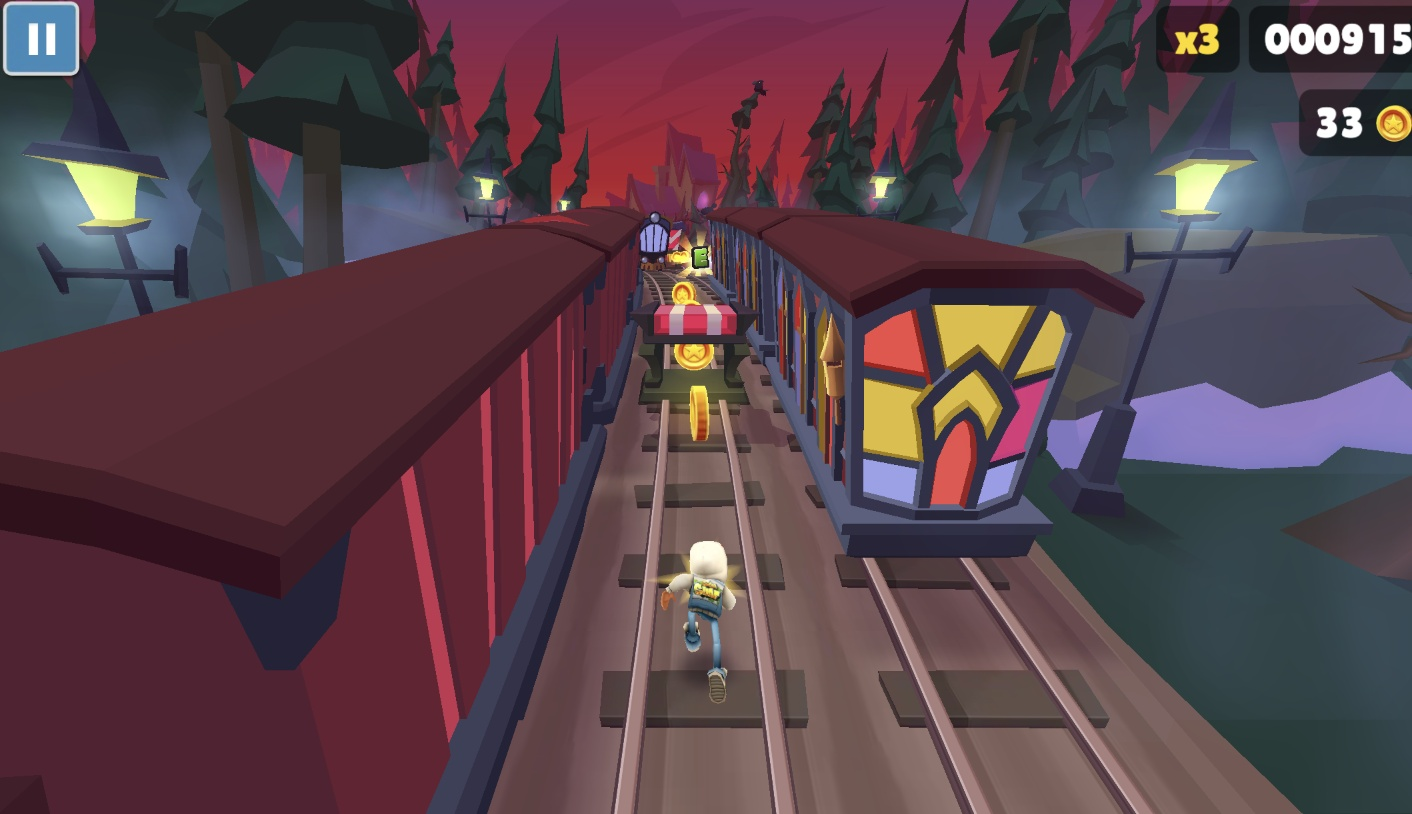ground_barrier: (629, 304, 758, 408)
overhead_barrier: (666, 217, 688, 263)
train: (0, 207, 650, 814), (701, 208, 1174, 574), (639, 211, 682, 272)
